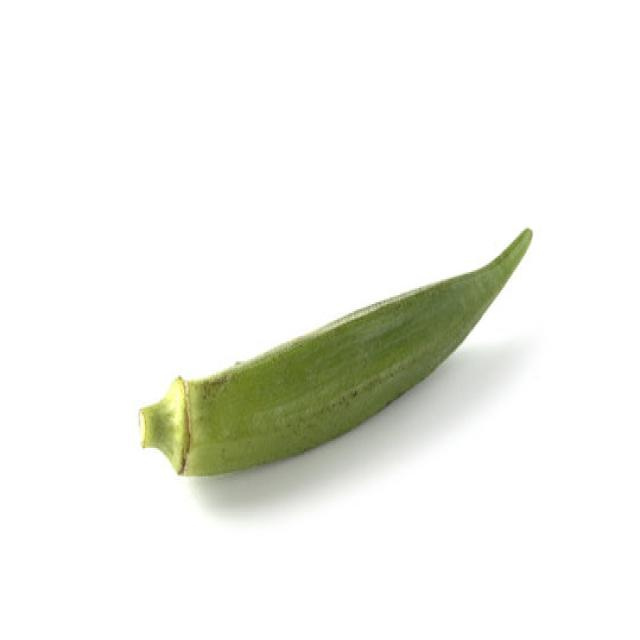Okra: (137, 224, 533, 478)
